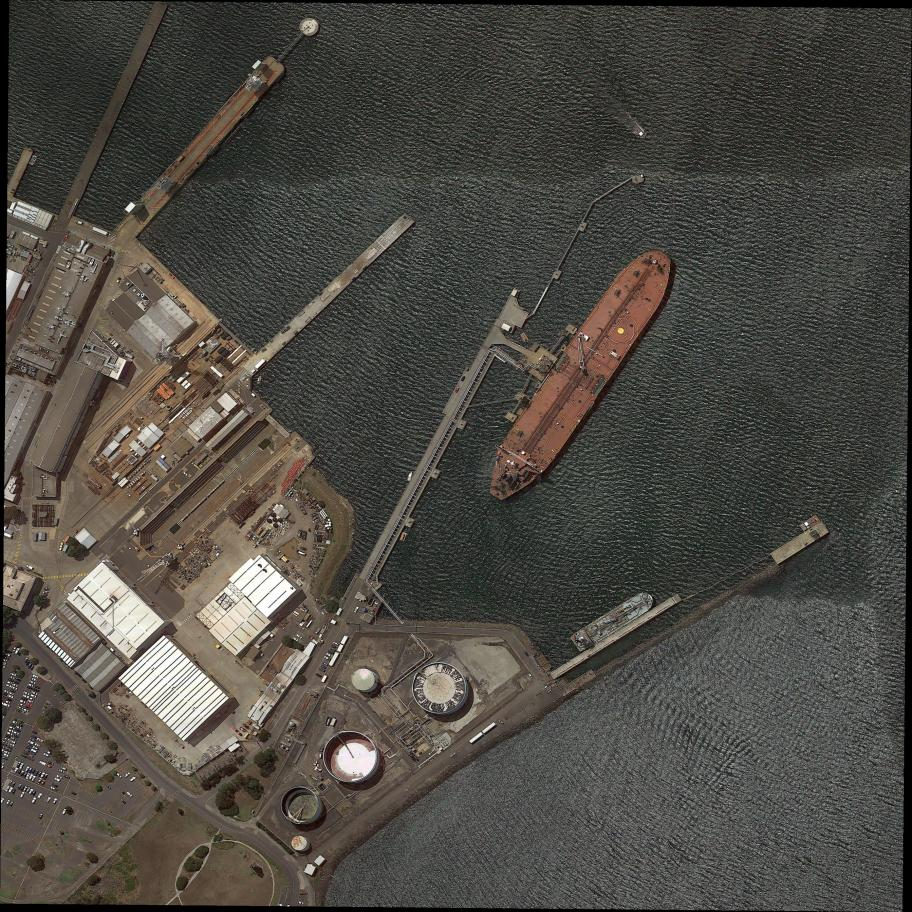ship: (474, 238, 686, 514), (569, 587, 658, 654), (406, 471, 415, 483), (353, 606, 360, 614)
small-vehicle: (39, 771, 47, 779), (37, 812, 44, 820), (119, 798, 127, 805), (30, 775, 37, 783), (34, 684, 41, 691), (129, 776, 136, 783), (105, 783, 112, 790), (37, 792, 44, 799), (25, 701, 33, 707), (2, 702, 10, 708), (295, 633, 303, 639), (327, 649, 335, 655), (321, 661, 329, 667), (318, 667, 326, 673), (314, 672, 322, 678), (26, 564, 34, 570), (33, 769, 39, 777), (38, 761, 46, 767), (37, 777, 43, 785), (19, 769, 25, 777), (17, 705, 24, 711), (28, 696, 35, 702), (4, 747, 11, 753), (6, 745, 13, 751), (9, 739, 16, 745), (10, 736, 17, 742), (13, 730, 20, 736), (10, 671, 17, 677), (52, 798, 58, 805), (45, 796, 51, 803), (31, 797, 37, 804), (19, 791, 25, 798), (11, 788, 17, 795), (8, 787, 14, 794), (292, 636, 299, 642), (326, 652, 333, 658), (126, 491, 132, 498), (181, 471, 188, 477), (31, 789, 37, 796), (25, 786, 31, 793), (31, 748, 38, 754), (15, 761, 21, 768), (45, 749, 52, 755), (43, 774, 49, 781), (41, 779, 47, 786), (28, 773, 34, 780), (50, 786, 57, 792), (31, 691, 39, 696), (36, 738, 44, 743), (10, 686, 18, 691), (62, 808, 67, 816), (19, 762, 24, 770), (20, 784, 25, 792), (28, 740, 34, 746), (3, 688, 9, 694), (126, 791, 132, 797), (28, 788, 34, 794), (21, 697, 28, 702), (19, 699, 26, 704), (27, 699, 34, 704), (22, 694, 29, 699), (23, 691, 30, 696), (30, 694, 37, 699), (32, 688, 39, 693), (9, 722, 16, 727), (31, 734, 38, 739), (29, 737, 36, 742), (2, 753, 9, 758), (3, 750, 10, 755), (12, 734, 19, 739), (29, 680, 36, 685), (32, 674, 39, 679), (24, 657, 29, 664), (7, 694, 14, 699), (16, 674, 23, 679), (32, 746, 39, 751), (9, 801, 14, 808), (6, 799, 11, 806), (5, 785, 10, 792), (324, 656, 331, 661), (332, 641, 339, 646), (329, 647, 336, 652), (52, 783, 59, 788), (31, 730, 38, 735), (45, 763, 52, 768), (28, 767, 33, 774), (25, 766, 30, 773), (58, 769, 65, 774), (60, 766, 67, 771), (47, 761, 54, 766), (43, 753, 50, 758), (22, 751, 29, 756), (30, 751, 37, 756), (37, 771, 42, 778), (56, 774, 63, 779), (17, 783, 22, 790), (11, 781, 16, 788), (25, 773, 30, 780), (54, 777, 61, 782), (19, 702, 25, 707), (17, 723, 23, 728), (8, 743, 14, 748), (12, 646, 17, 652), (5, 700, 11, 705), (6, 697, 12, 702), (15, 677, 21, 682), (9, 675, 15, 680), (27, 743, 33, 748), (120, 789, 125, 795), (125, 772, 130, 778), (116, 773, 122, 778), (298, 900, 304, 905), (320, 665, 326, 670), (30, 769, 36, 774), (23, 786, 28, 792), (8, 780, 13, 786), (23, 772, 28, 778), (17, 769, 22, 775), (14, 767, 19, 773), (64, 774, 70, 779), (15, 726, 22, 730), (31, 678, 38, 682), (171, 460, 175, 467), (44, 587, 51, 591), (28, 754, 35, 758), (12, 720, 17, 725), (25, 661, 30, 666), (6, 683, 11, 688), (30, 665, 35, 670), (26, 745, 31, 750), (23, 708, 29, 712), (25, 706, 31, 710), (9, 726, 15, 730), (8, 729, 14, 733), (2, 740, 8, 744), (3, 737, 9, 741), (6, 732, 12, 736), (3, 707, 9, 711), (35, 743, 41, 747), (5, 653, 11, 657), (43, 590, 49, 594), (28, 663, 32, 669), (10, 689, 16, 693), (12, 683, 18, 687), (8, 678, 14, 682), (331, 645, 337, 649), (299, 892, 306, 895), (27, 686, 32, 690), (4, 656, 9, 660), (7, 681, 12, 685), (14, 681, 19, 685), (24, 749, 29, 753), (72, 792, 77, 796), (28, 684, 34, 687), (5, 735, 10, 738), (9, 692, 14, 695)
storage-tank: (412, 662, 466, 714), (324, 732, 377, 783), (281, 786, 319, 822), (352, 668, 375, 690), (292, 835, 307, 850)
